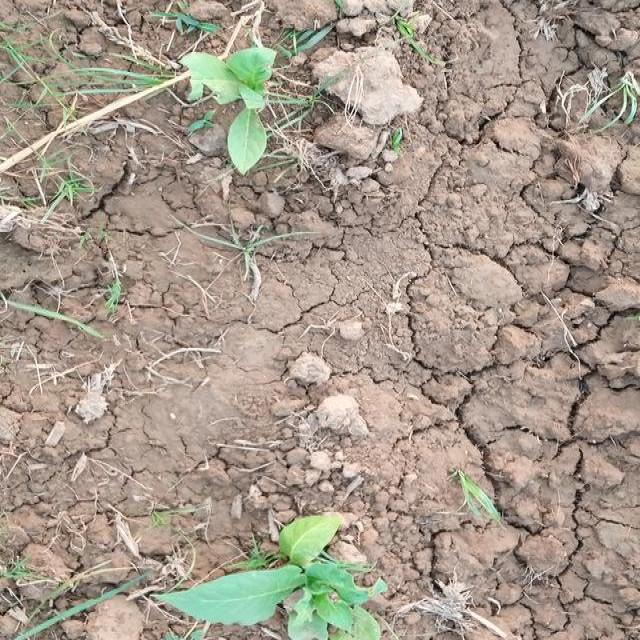crop: (168, 520, 364, 640), (192, 40, 270, 167)
